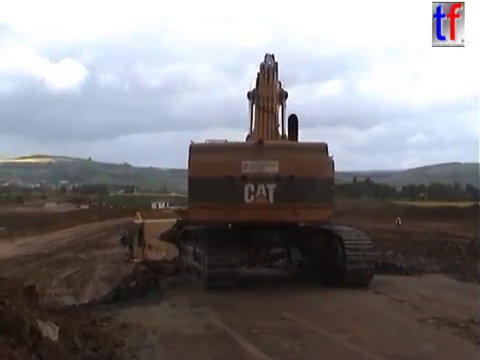excavator: (172, 49, 380, 291), (85, 194, 112, 213)
truck: (116, 209, 293, 292), (13, 192, 27, 208), (39, 192, 48, 202)
worker: (392, 211, 404, 233)
